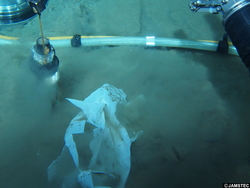plastic bag: (42, 81, 144, 188)
